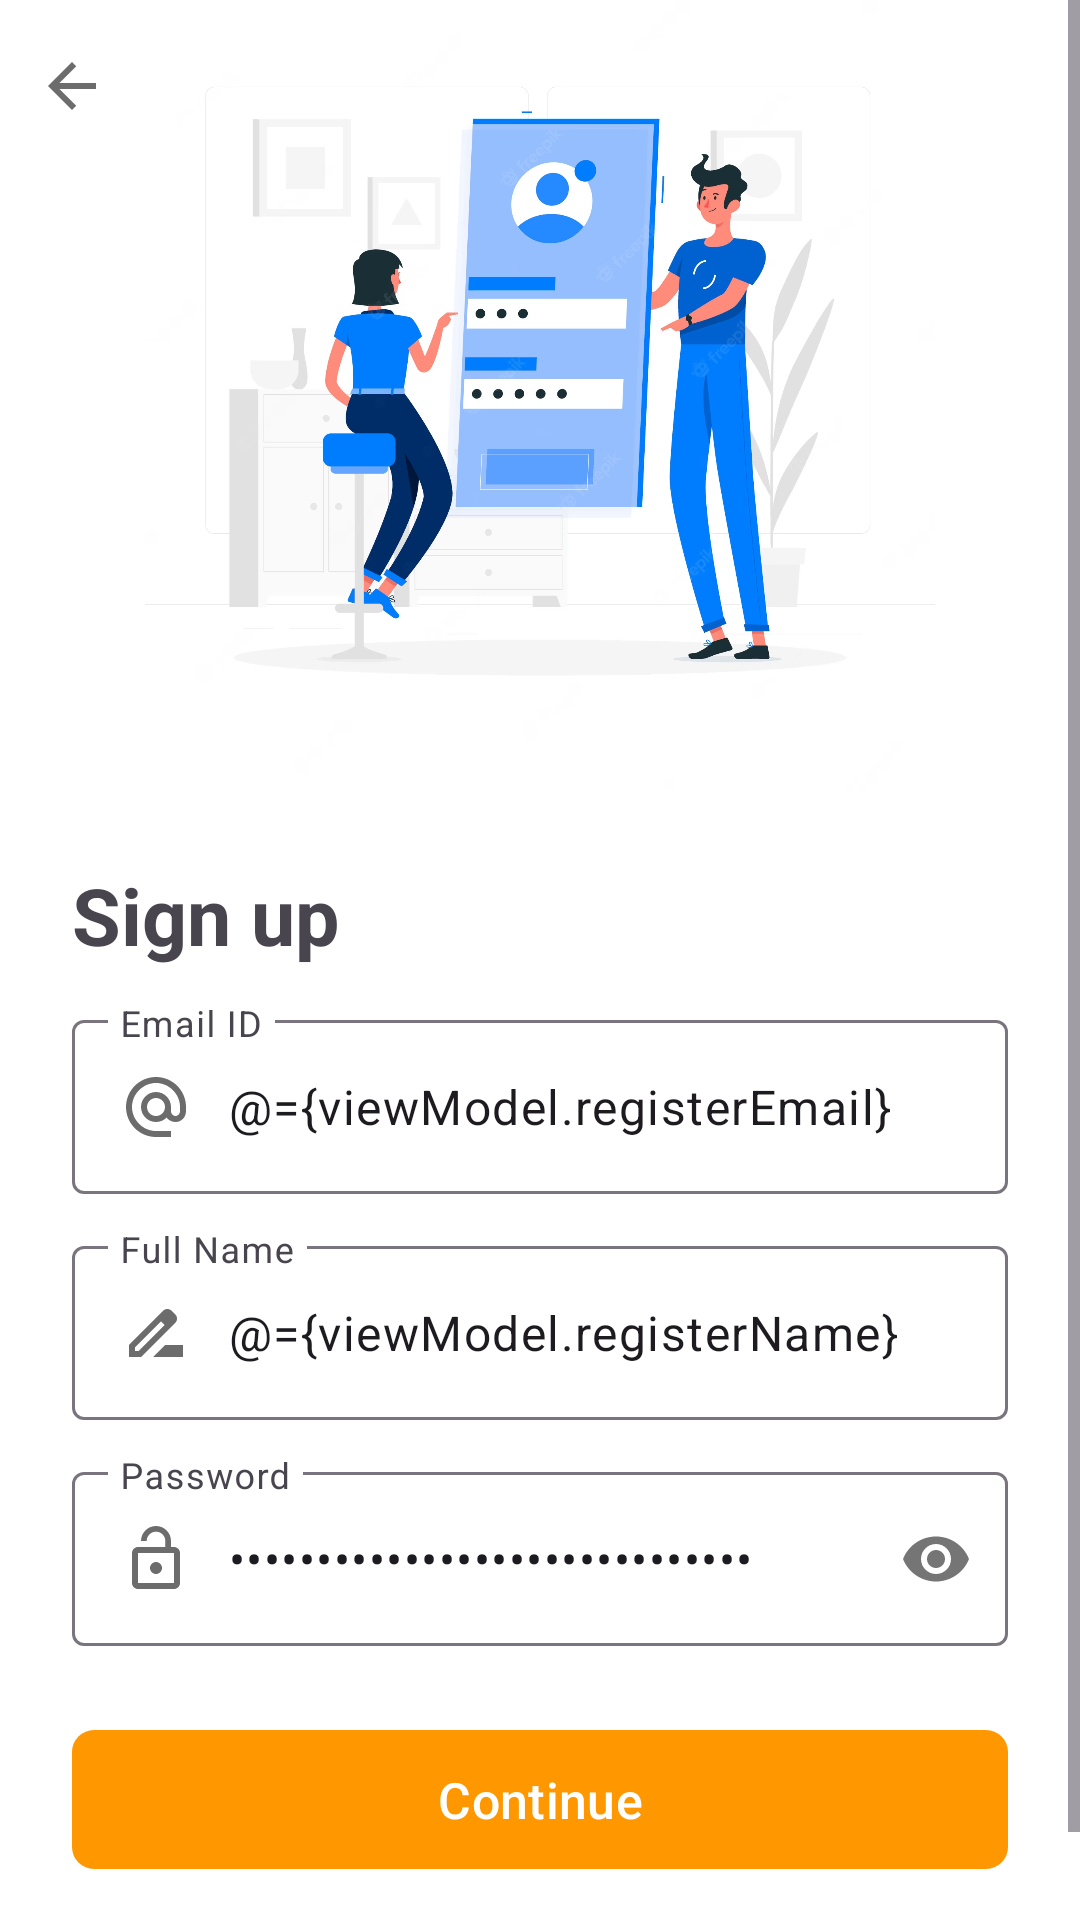

Where to tap for icons on this 1080 x 1920 app screen, as (x,y):
back arrow: (72,86)
